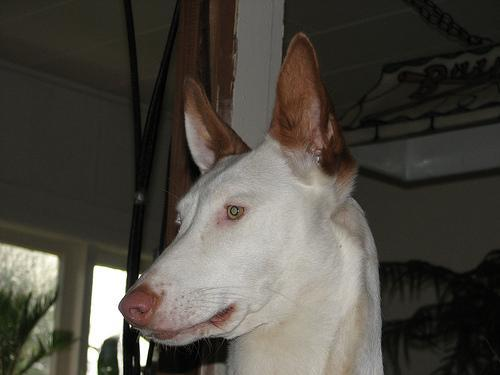Ibizan_hound: (116, 30, 381, 371)
